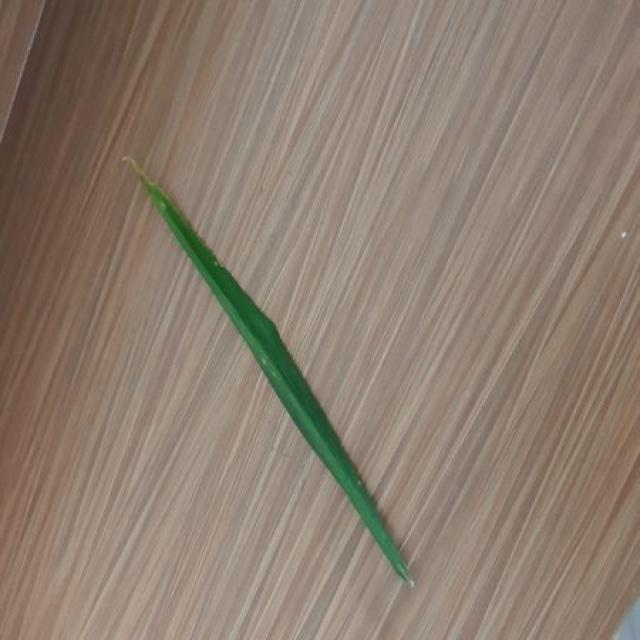ginger: (124, 158, 413, 586)
